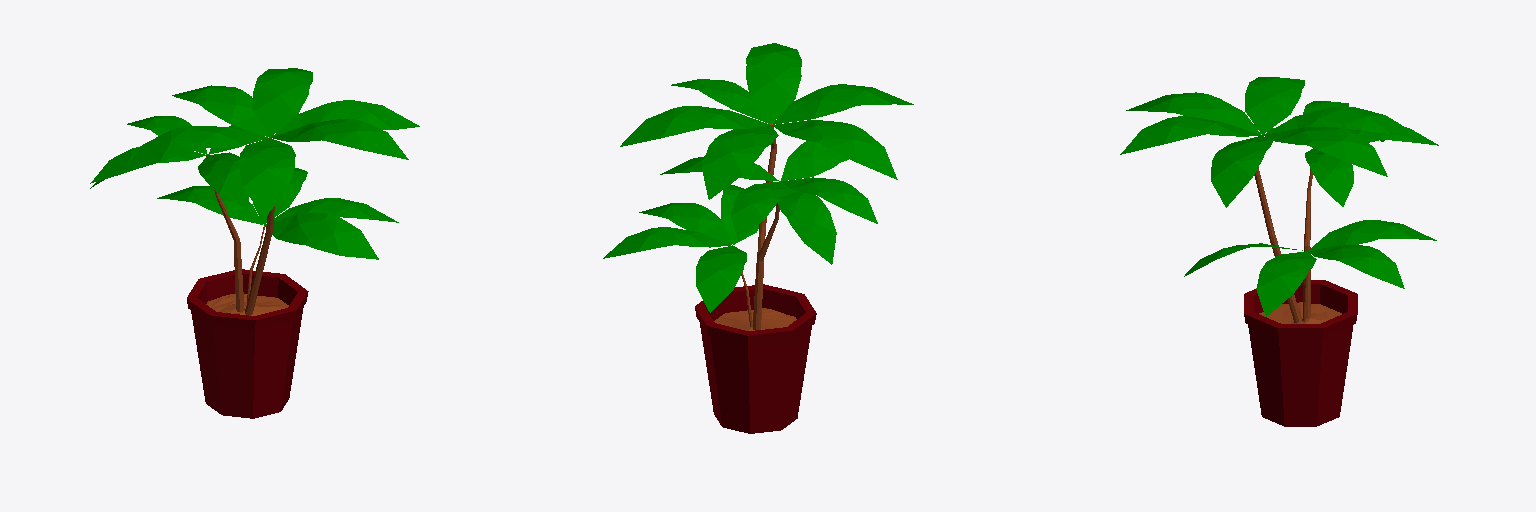
Rendered from planta.obj.
3 renders of one model, left to right at view 1: azimuth 30°, elevation 25°; view 2: azimuth 150°, elevation 25°; view 3: azimuth 270°, elevation 25°, orthographic.
Parts seen in each view (by area): view 1: leaf.004, pot, leaf.003, leaf.014, tige.001, tige.002; view 2: leaf.004, pot, leaf.014, leaf.003, tige.001; view 3: leaf.004, pot, leaf.003, leaf.014, tige.002, tige.001.
Part boxes in pixels (left/top/right/bottom): leaf.004: left=119, top=68, right=419, bottom=218; pot: left=187, top=269, right=308, bottom=418; leaf.003: left=157, top=168, right=398, bottom=259; leaf.014: left=90, top=116, right=262, bottom=208; tige.001: left=206, top=156, right=244, bottom=311; tige.002: left=245, top=137, right=274, bottom=315; leaf.004: left=620, top=43, right=913, bottom=199; pot: left=695, top=284, right=816, bottom=433; leaf.014: left=660, top=141, right=877, bottom=264; leaf.003: left=603, top=184, right=758, bottom=312; tige.001: left=753, top=181, right=779, bottom=330; leaf.004: left=1120, top=77, right=1422, bottom=207; pot: left=1244, top=280, right=1357, bottom=426; leaf.003: left=1184, top=220, right=1436, bottom=316; leaf.014: left=1197, top=101, right=1438, bottom=206; tige.002: left=1254, top=135, right=1301, bottom=322; tige.001: left=1303, top=169, right=1312, bottom=318.
Bounding box in the file's own units: 5.14 × 5.45 × 5.16.